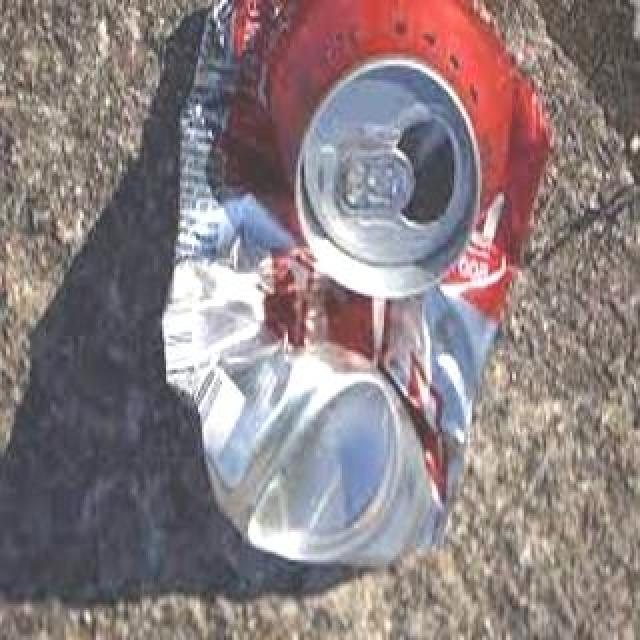Can: (158, 0, 548, 574)
